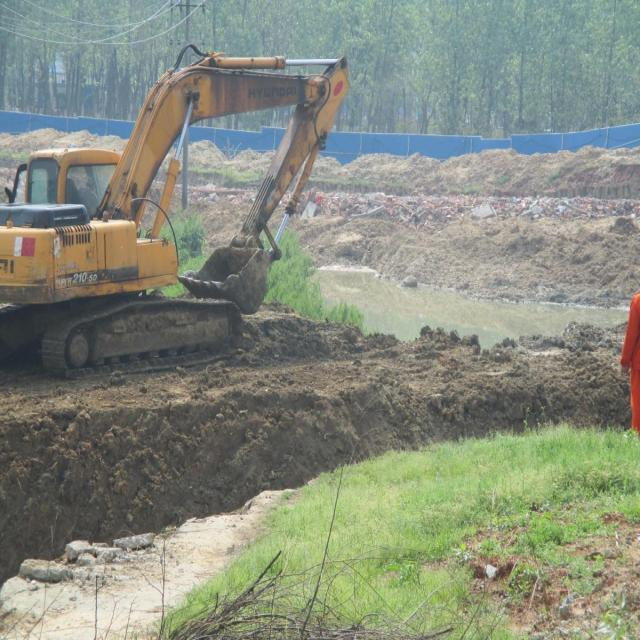excavator: (0, 31, 361, 386)
